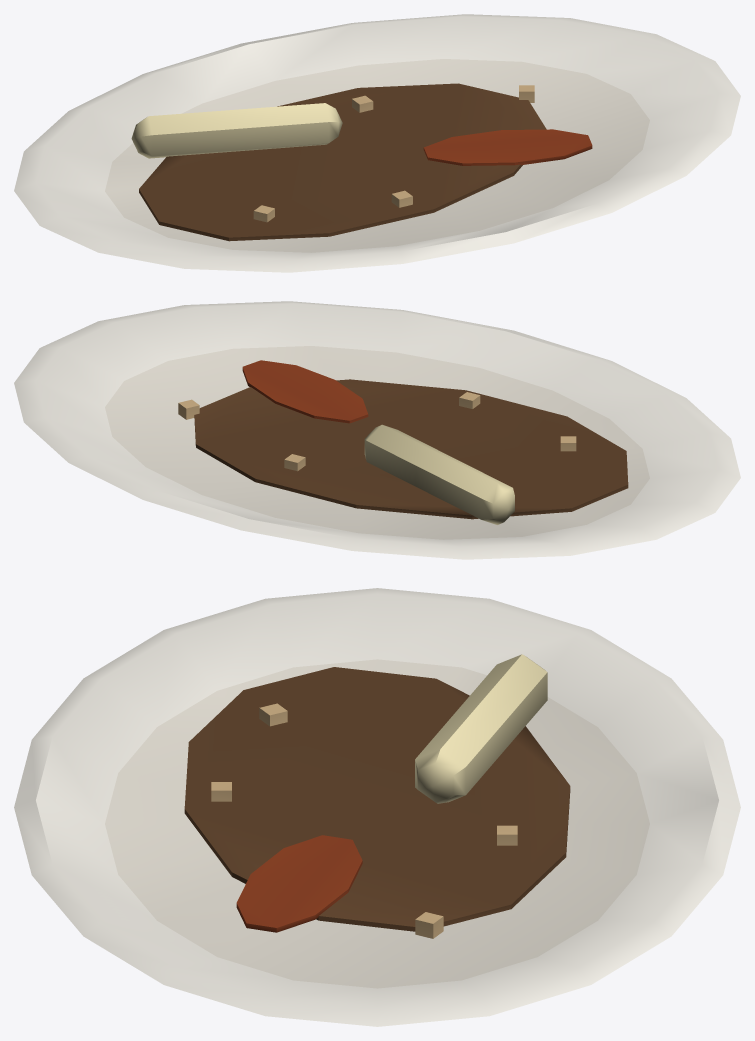
Rendered from platterDirty.glb.
The picture shows the model from 3 angles, top to bottom: view 1: azimuth 30°, elevation 25°; view 2: azimuth 150°, elevation 25°; view 3: azimuth 270°, elevation 25°; orthographic projection. The views are drawn at different scales.
Visible parts, largest first — view 1: platterDirty; view 2: platterDirty; view 3: platterDirty.
Boxes of the visible parts, x1,y1,x2,y2 form: platterDirty: (14, 14, 740, 272); platterDirty: (14, 301, 740, 559); platterDirty: (14, 588, 740, 1026).
Bounding box in the file's own units: 0.4 × 0.034 × 0.28.
